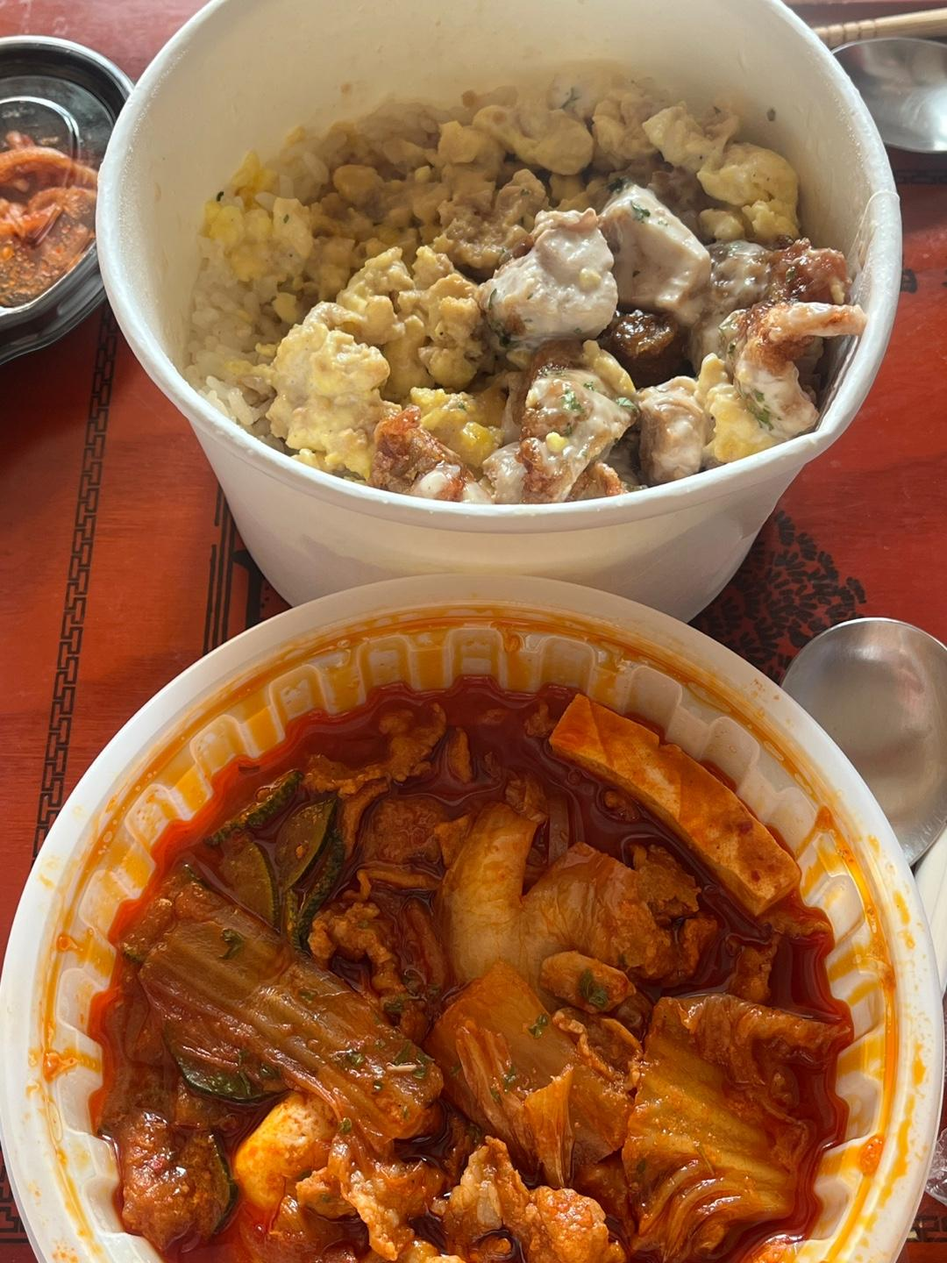Lunch Box: (0, 577, 943, 1262), (98, 0, 901, 620), (0, 35, 132, 364)
